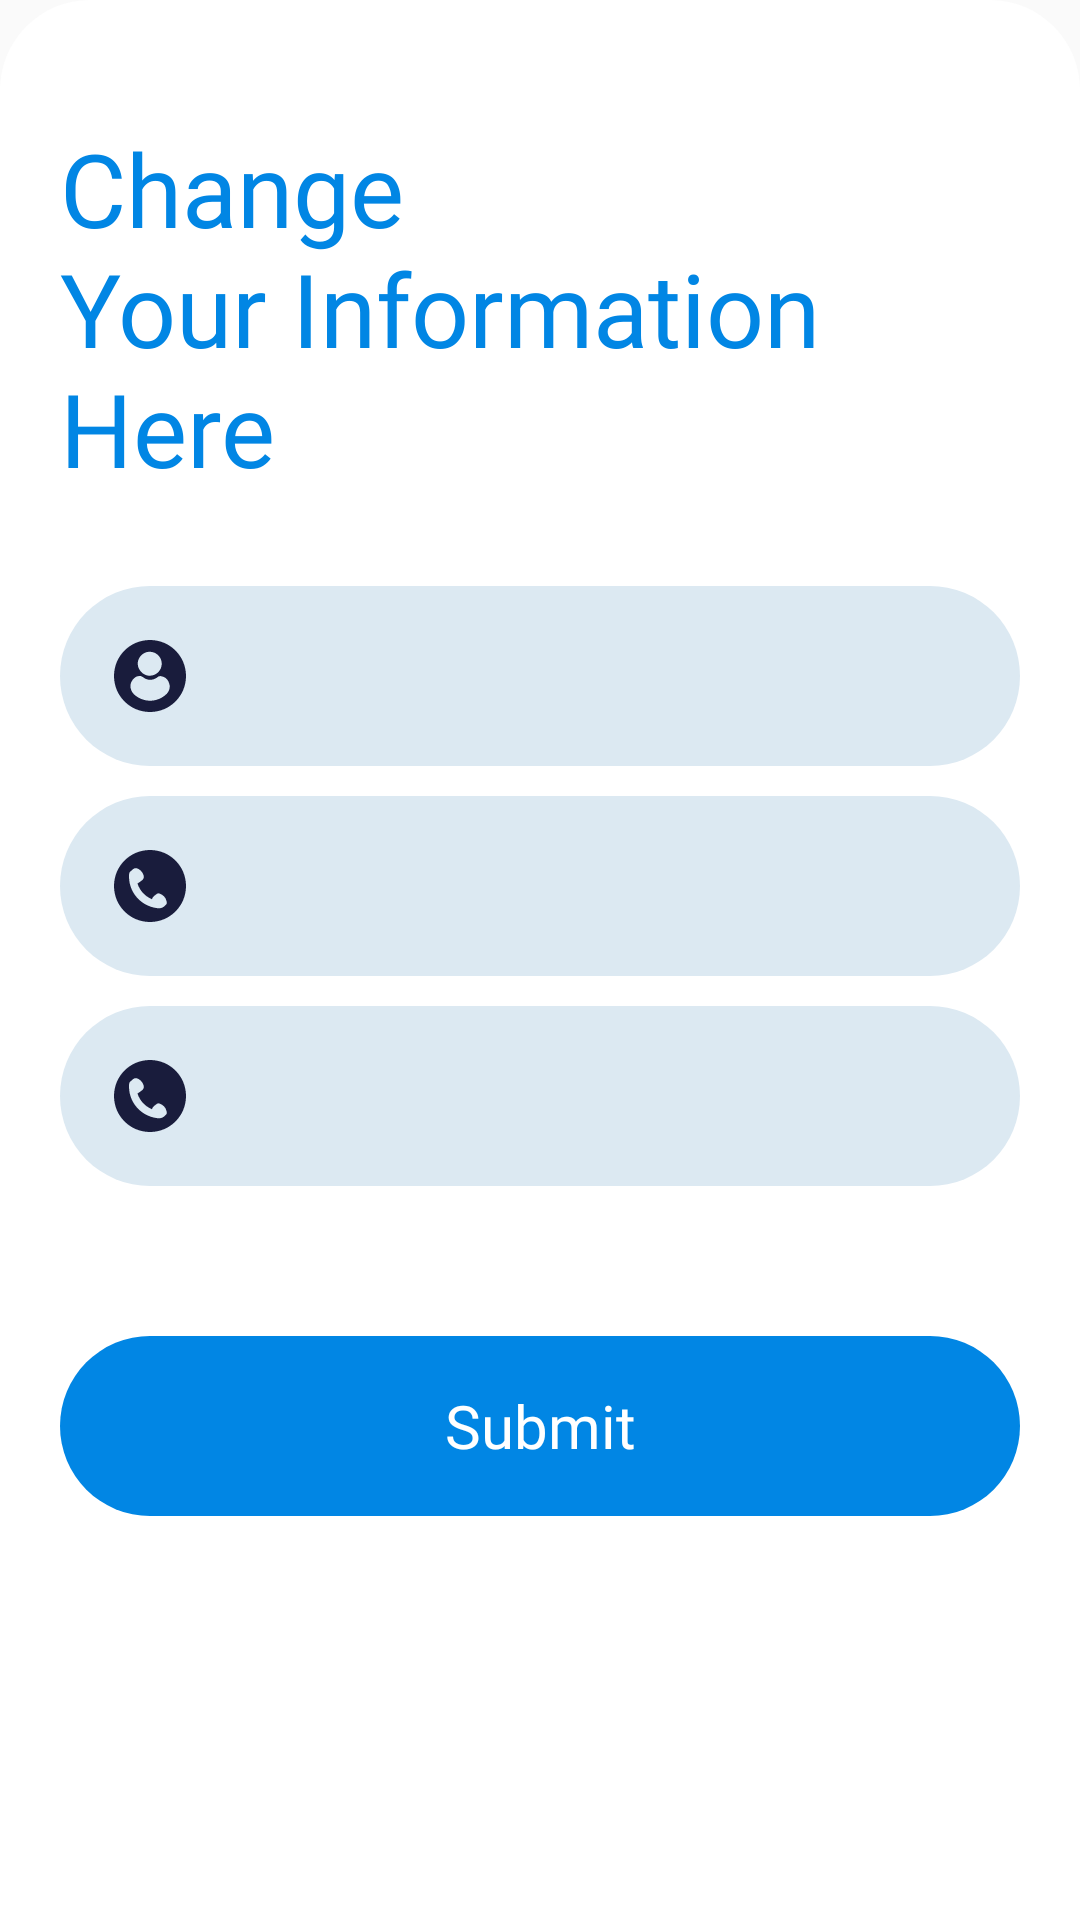

Screen size 1080w x 1920h. Icon name, then its center in pixels as (x=x, y=y):
phone: (x=150, y=886), (x=150, y=1096)
user: (x=150, y=676)
